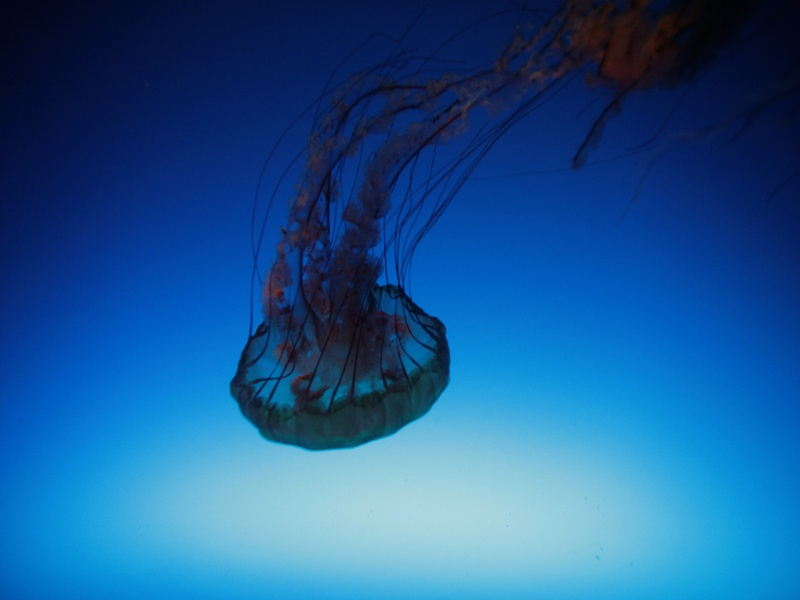Jellyfish: (226, 7, 580, 453)
